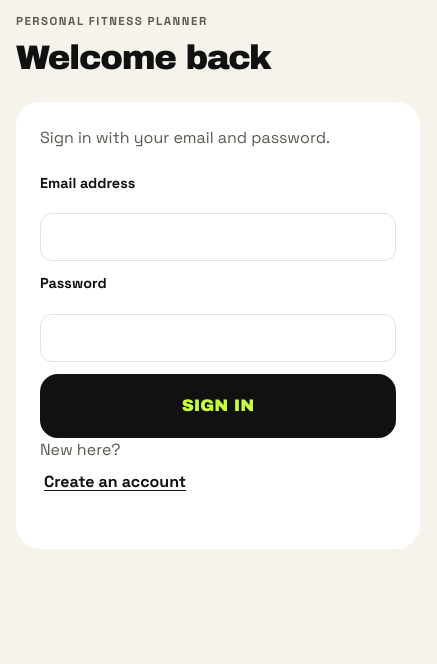
Test case: authentication foundation › creates an account and explains when email confirmation is required
The width and height of the screenshot is (437, 664).
Expected: the heading "Welcome back" is shown, [16, 39, 270, 76]
Click the button "Create an account": [115, 483] box [40, 463, 190, 503]
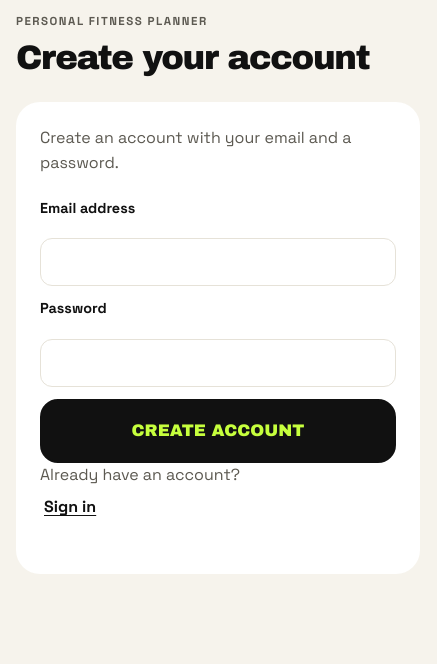
Result: the heading "Create your account" is shown at [16, 40, 420, 76]
In the field labelled "Email address": [218, 262] box [40, 238, 396, 286], type "new@example.com"
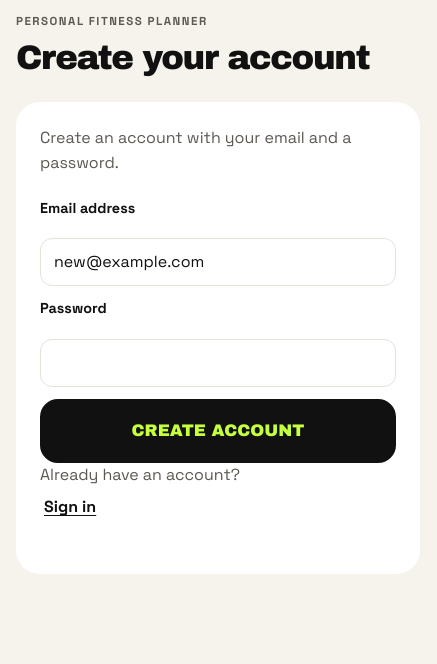
In the password field labelled "Password": [218, 363] box [40, 339, 396, 387], type "safe-password"
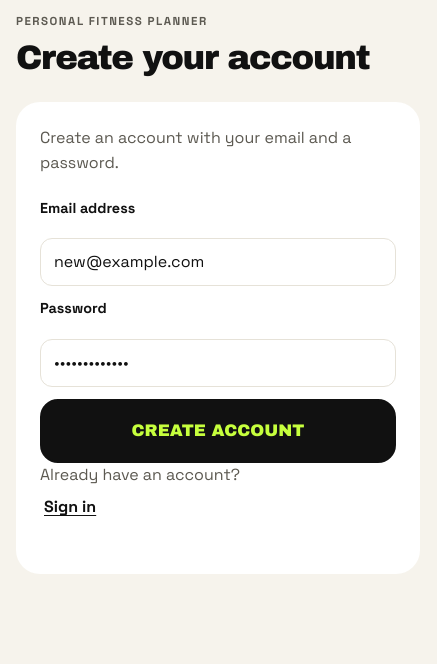
Click the button "Create account": [218, 431] box [40, 399, 396, 463]
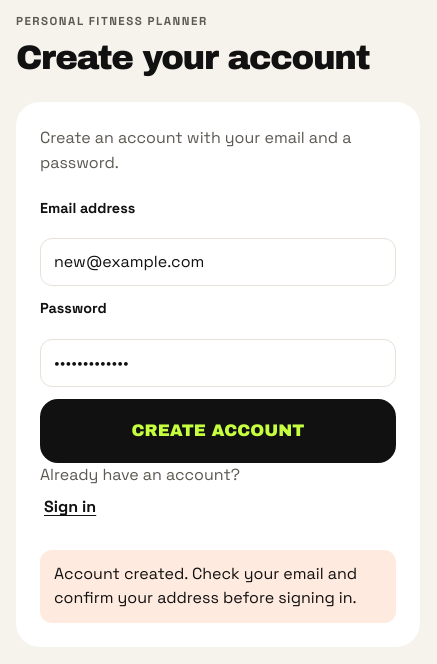
Result: the message shows "confirm your address" at [54, 563, 357, 608]
